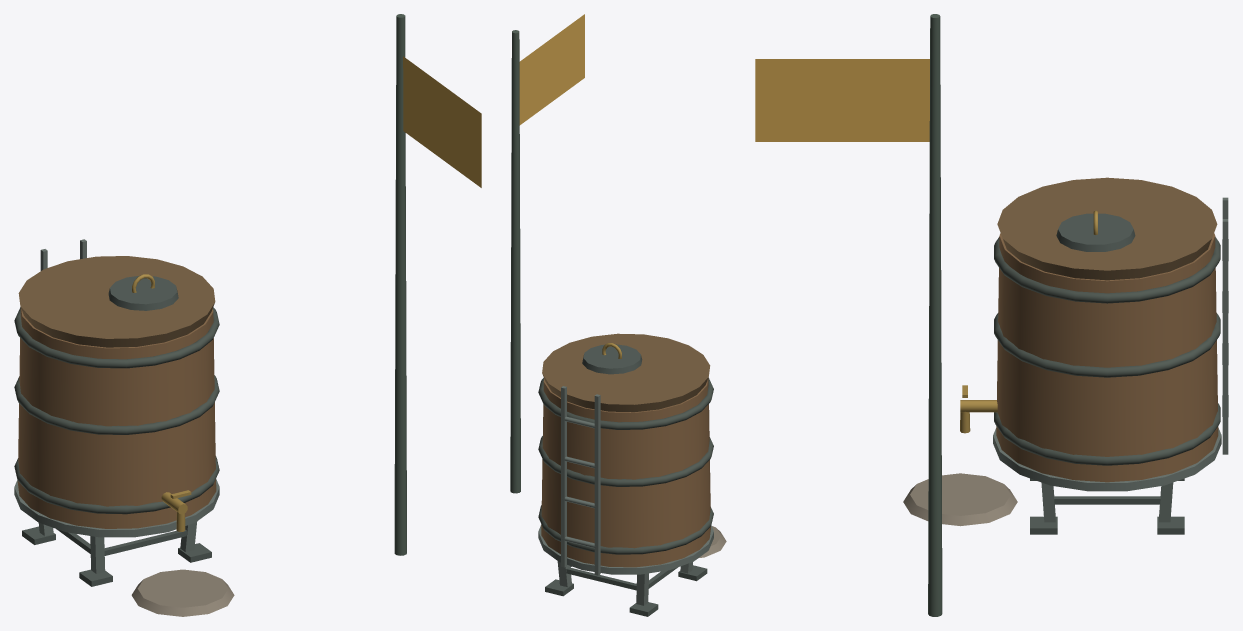
Rendered from farmstead-clutter.glb.
The picture shows the model from 3 angles, left to right: view 1: azimuth 30°, elevation 25°; view 2: azimuth 150°, elevation 25°; view 3: azimuth 270°, elevation 25°; orthographic projection. The views are drawn at different scales.
Visible parts, largest first — view 1: waterButtStaves, waterButtHardware, farmsteadClutter, farmBannerSign; view 2: waterButtHardware, waterButtStaves, farmsteadClutter, farmBannerSign; view 3: waterButtStaves, waterButtHardware, farmBannerSign, farmsteadClutter.
Boxes of the visible parts, <box> form: waterButtStaves: <box>17,307,216,528</box>; waterButtHardware: <box>14,239,234,616</box>; farmsteadClutter: <box>394,14,406,555</box>; farmBannerSign: <box>403,56,481,187</box>; waterButtHardware: <box>538,333,726,616</box>; waterButtStaves: <box>541,378,710,567</box>; farmsteadClutter: <box>510,30,520,493</box>; farmBannerSign: <box>519,14,584,125</box>; waterButtStaves: <box>996,233,1218,482</box>; waterButtHardware: <box>903,177,1228,534</box>; farmBannerSign: <box>755,59,929,141</box>; farmsteadClutter: <box>928,14,942,616</box>.
Size of the model in its own units: 2.7 by 4.6 by 3.3.
